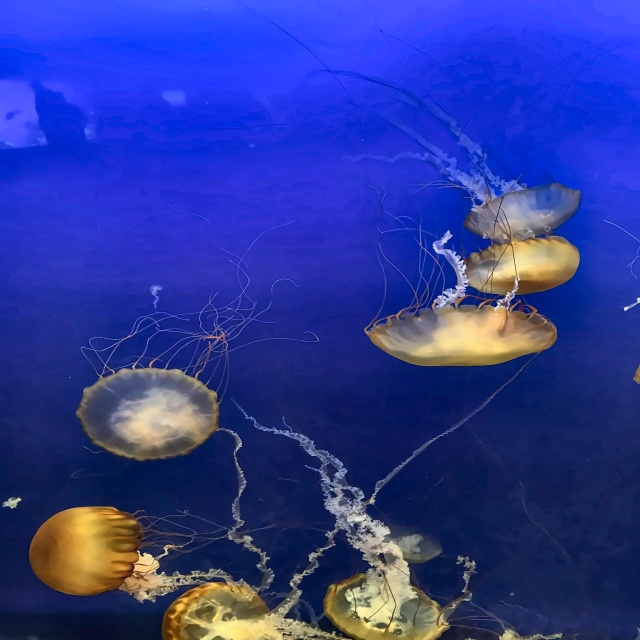jellyfish: (78, 369, 218, 459), (366, 308, 555, 367), (29, 507, 139, 593), (324, 573, 446, 639), (458, 238, 578, 296), (465, 185, 580, 240), (161, 585, 270, 639)
